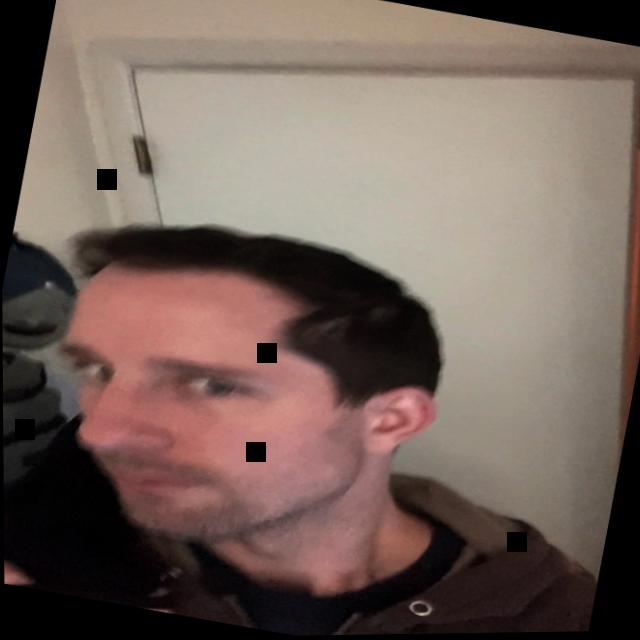NO-Mask: (26, 227, 442, 609)
